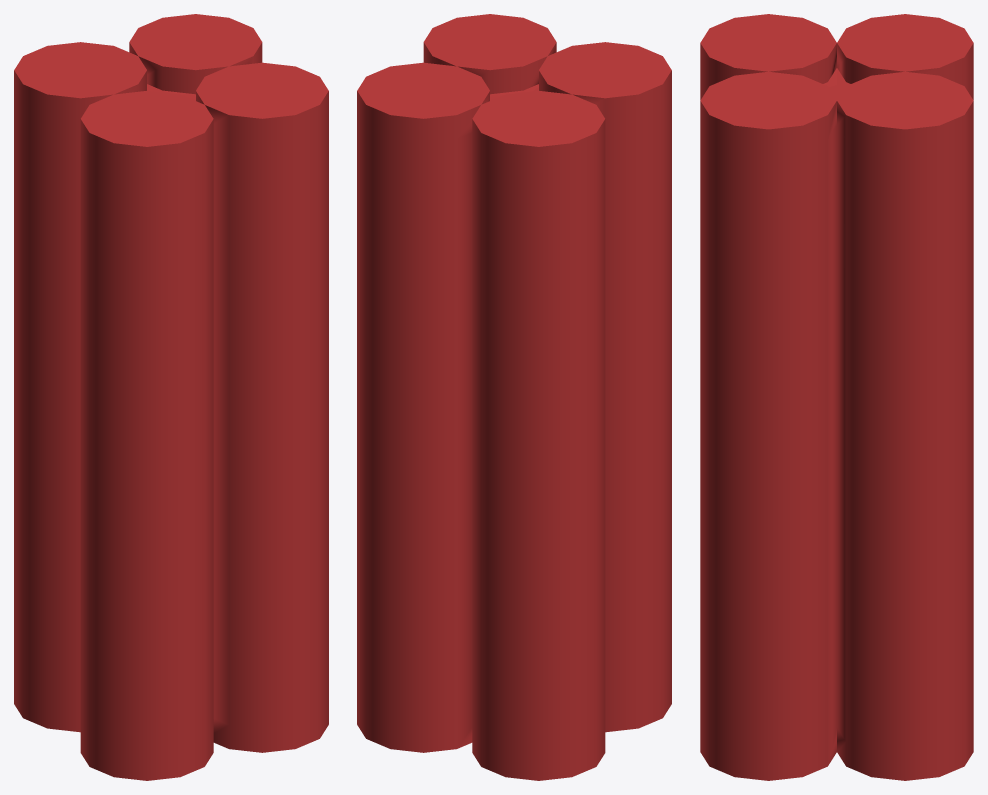
File: take_tail.FBX
The picture shows the model from 3 angles, left to right: view 1: azimuth 30°, elevation 25°; view 2: azimuth 150°, elevation 25°; view 3: azimuth 270°, elevation 25°; orthographic projection. The views are drawn at different scales.
Parts seen in each view (by area): view 1: Cylinder001; view 2: Cylinder001; view 3: Cylinder001.
Boxes of the visible parts, x1,y1,x2,y2 form: Cylinder001: (14,14,328,780); Cylinder001: (357,14,671,780); Cylinder001: (700,14,973,780).
Size of the model in its own units: 10 by 26.3 by 10.
1 material, 1 textured.
